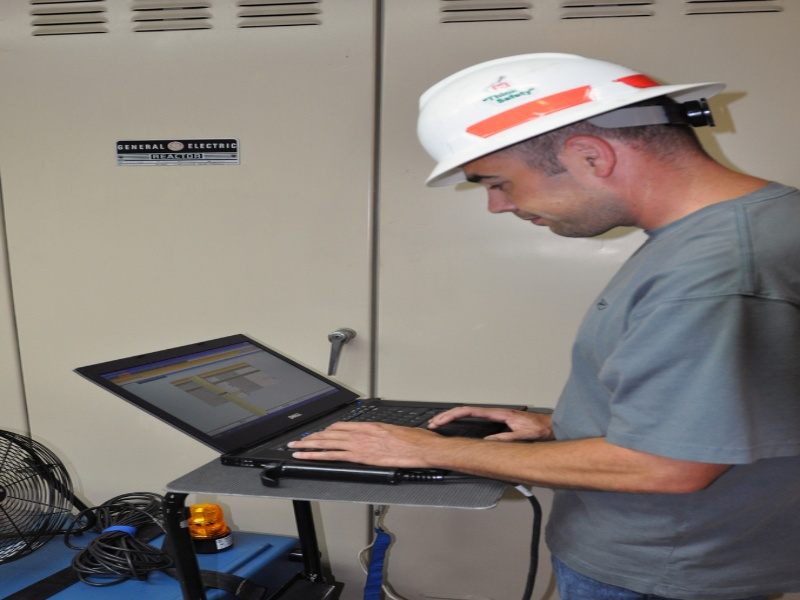baret: (414, 52, 729, 190)
